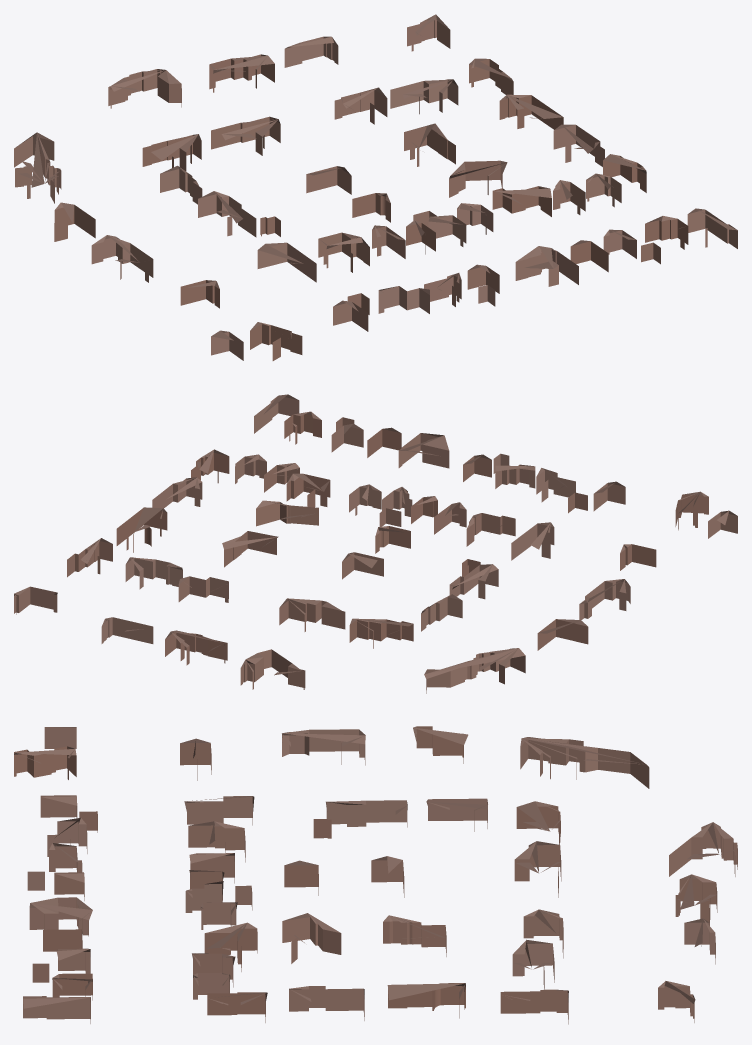
The model's file is c_1646_17824_buildings_residential.glb.
The picture shows the model from 3 angles, top to bottom: view 1: azimuth 30°, elevation 25°; view 2: azimuth 150°, elevation 25°; view 3: azimuth 270°, elevation 25°; orthographic projection. The views are drawn at different scales.
Parts seen in each view (by area): view 1: geometry_0; view 2: geometry_0; view 3: geometry_0.
Part boxes in pixels (left/top/right/bottom): geometry_0: left=14, top=14, right=737, bottom=360; geometry_0: left=14, top=394, right=737, bottom=693; geometry_0: left=14, top=726, right=737, bottom=1024.
Size of the model in its own units: 254 by 10.94 by 275.
